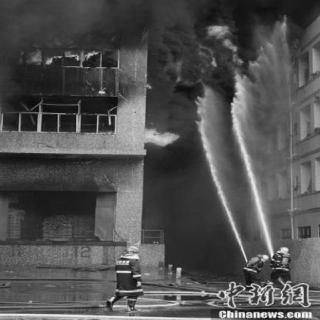Fire: (162, 21, 260, 93)
